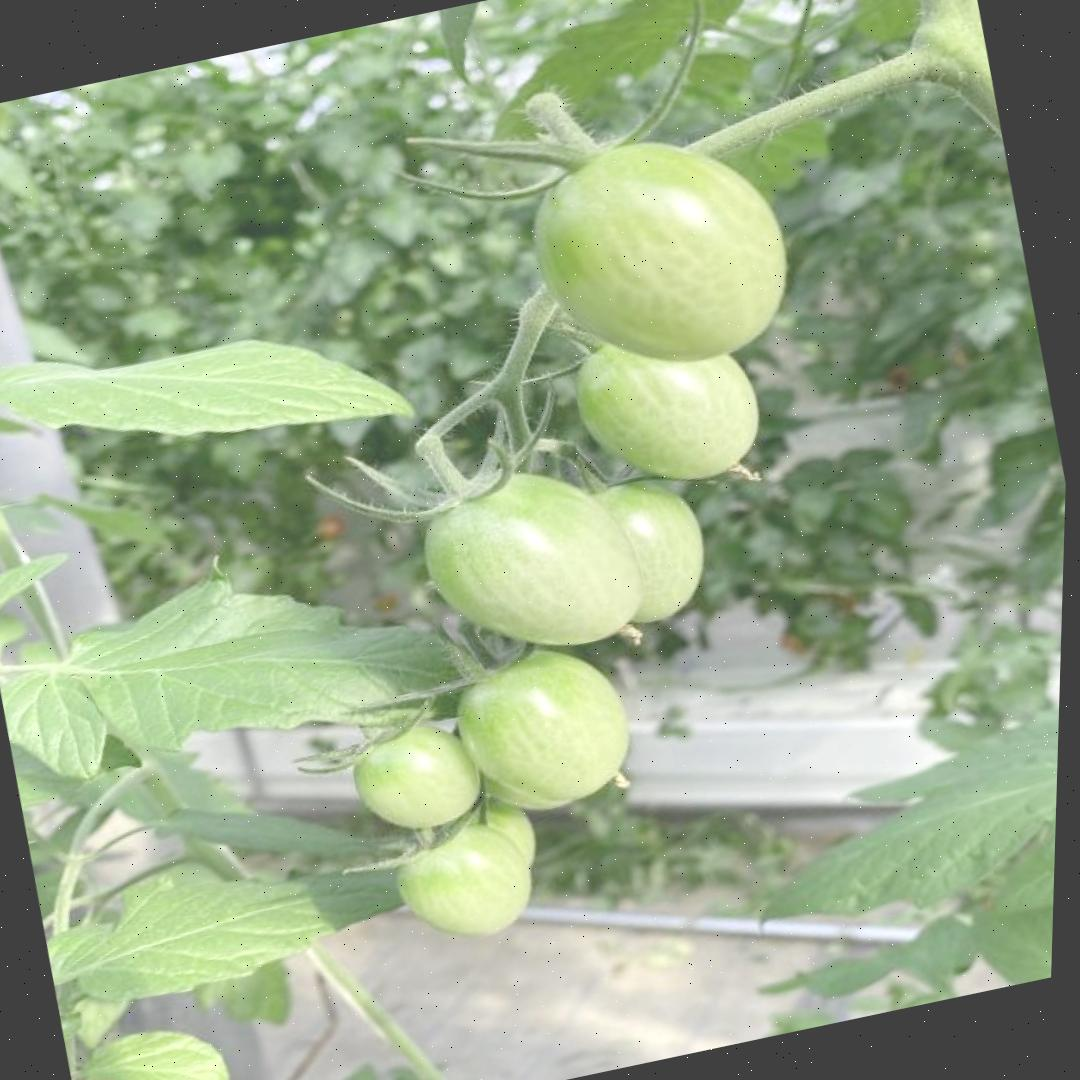mentah: (504, 112, 813, 393), (402, 448, 660, 676), (561, 313, 776, 501), (440, 628, 647, 822), (385, 815, 545, 953), (341, 711, 492, 842)
